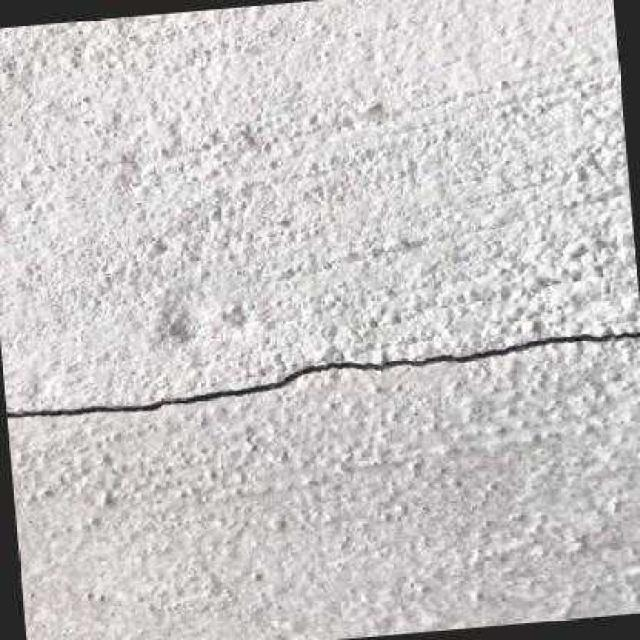D00: (7, 329, 640, 417)
